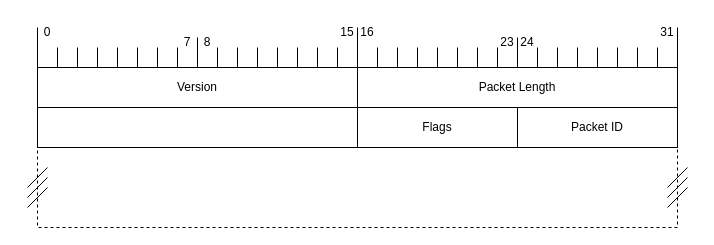
Some shapes in this 714 by 245 pixel diagram are drawn without their labels. The box of each missing label's shape, as (x1, y1, x2, y2) in pixels:
Header Checksum: (36, 106, 358, 148)
Payload: (36, 146, 678, 228)
